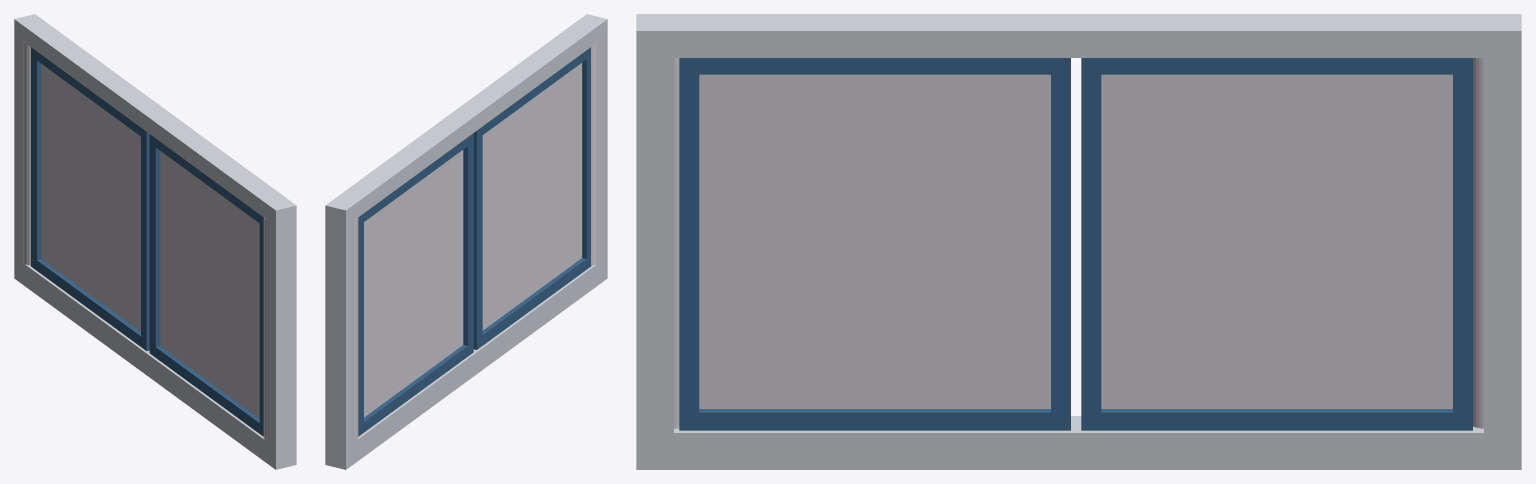
The model's file is door_corrected.gltf.
3 views of the same model, side by side, from view 1: azimuth 30°, elevation 25°; view 2: azimuth 150°, elevation 25°; view 3: azimuth 270°, elevation 25° (orthographic). The views are drawn at different scales.
Visible parts, largest first — view 1: Cube.002, Cube, Cylinder.001; view 2: Cube.002, Cube, Cylinder.001; view 3: Cube.002, Cube, Cylinder.001.
Boxes of the visible parts, <box> form: Cube.002: <box>31,47,263,436</box>; Cube: <box>14,14,296,469</box>; Cylinder.001: <box>23,42,266,440</box>; Cube.002: <box>358,47,591,436</box>; Cube: <box>325,14,607,469</box>; Cylinder.001: <box>355,42,598,440</box>; Cube.002: <box>679,58,1472,430</box>; Cube: <box>636,14,1521,469</box>; Cylinder.001: <box>674,58,1483,428</box>.
Bounding box in the file's own units: 0.1934 × 2.27 × 4.15.
